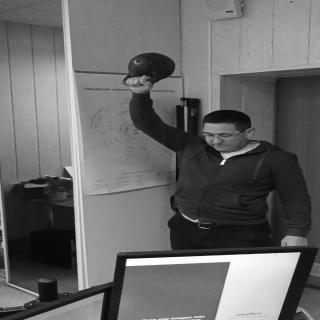kettlebell: (123, 52, 178, 86)
